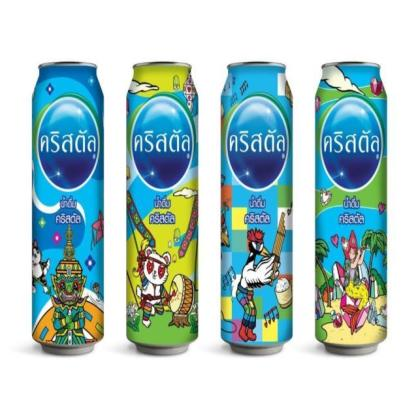can: (219, 58, 294, 356), (30, 60, 105, 356), (125, 60, 199, 356), (314, 60, 388, 356)
